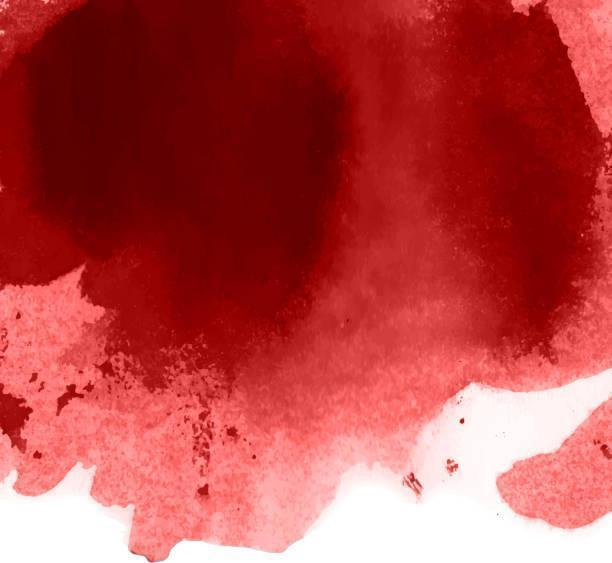Fire: (0, 1, 612, 561), (498, 399, 612, 530)
